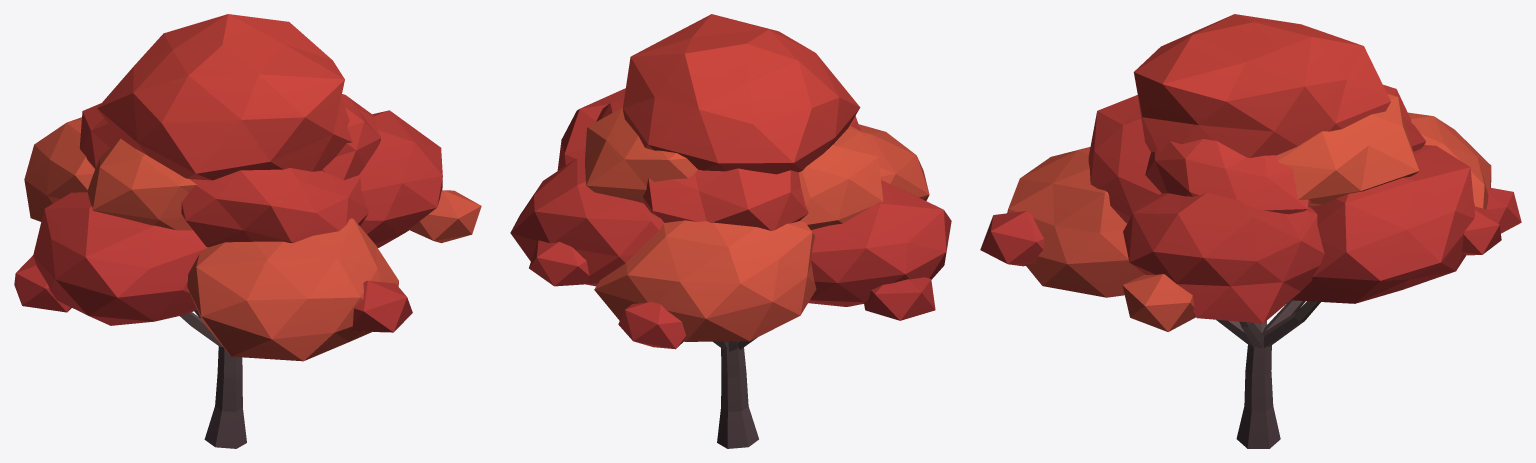
The model's file is maple_red.glb.
3 renders of one model, left to right at view 1: azimuth 30°, elevation 25°; view 2: azimuth 150°, elevation 25°; view 3: azimuth 270°, elevation 25°, orthographic. The views are drawn at different scales.
Parts seen in each view (by area): view 1: maple_red; view 2: maple_red; view 3: maple_red.
Boxes of the visible parts, x1,y1,x2,y2 form: maple_red: (14, 14, 481, 448); maple_red: (510, 14, 951, 448); maple_red: (980, 14, 1521, 448).
Size of the model in its own units: 5.82 by 5.55 by 6.51.
